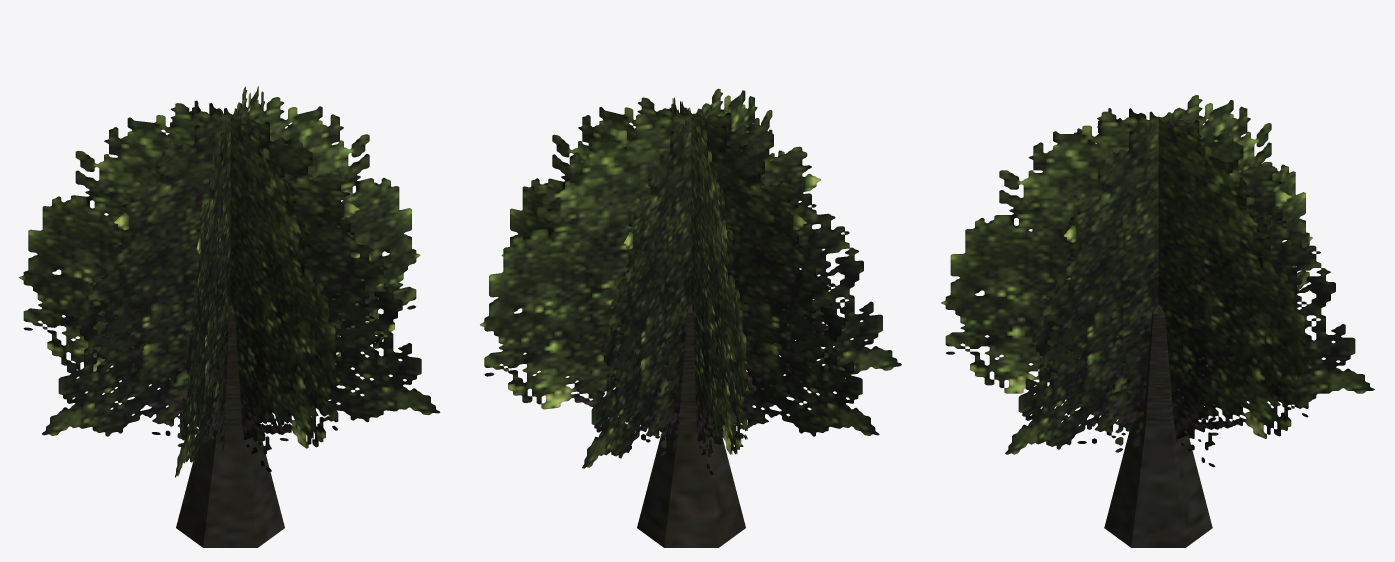
The model's file is tree17.glb.
3 renders of one model, left to right at view 1: azimuth 30°, elevation 25°; view 2: azimuth 150°, elevation 25°; view 3: azimuth 270°, elevation 25°, orthographic.
Visible parts, largest first — view 1: tree17; view 2: tree17; view 3: tree17.
Part boxes in pixels (x1,y1,x2,y2): tree17: [19, 86, 440, 547]; tree17: [480, 88, 901, 547]; tree17: [941, 95, 1374, 547].
Bounding box in the file's own units: 12 × 12.5 × 12.
1 material, 1 textured.
